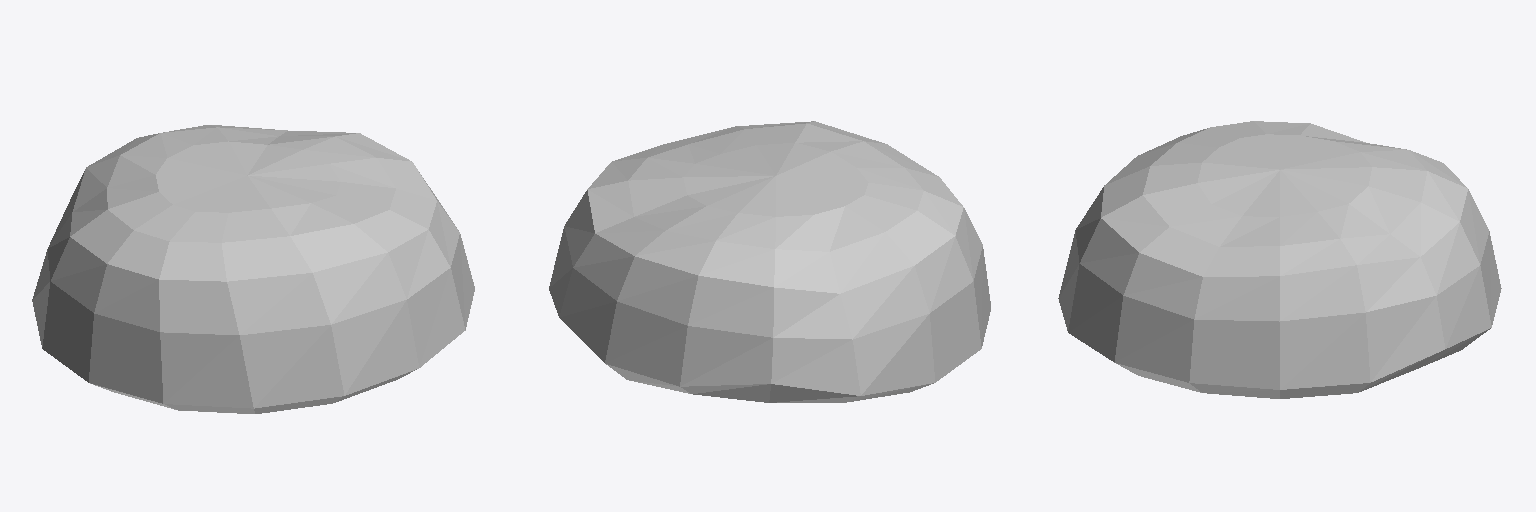
Rendered from shroomTopPrison.obj.
The picture shows the model from 3 angles: view 1: azimuth 30°, elevation 25°; view 2: azimuth 150°, elevation 25°; view 3: azimuth 270°, elevation 25°; orthographic projection.
Parts seen in each view (by area): view 1: mushroomTopPrison; view 2: mushroomTopPrison; view 3: mushroomTopPrison.
Boxes of the visible parts, x1,y1,x2,y2 form: mushroomTopPrison: [32, 125, 474, 413]; mushroomTopPrison: [549, 121, 990, 402]; mushroomTopPrison: [1058, 121, 1501, 398].
Size of the model in its own units: 15.8 by 6.53 by 15.92.